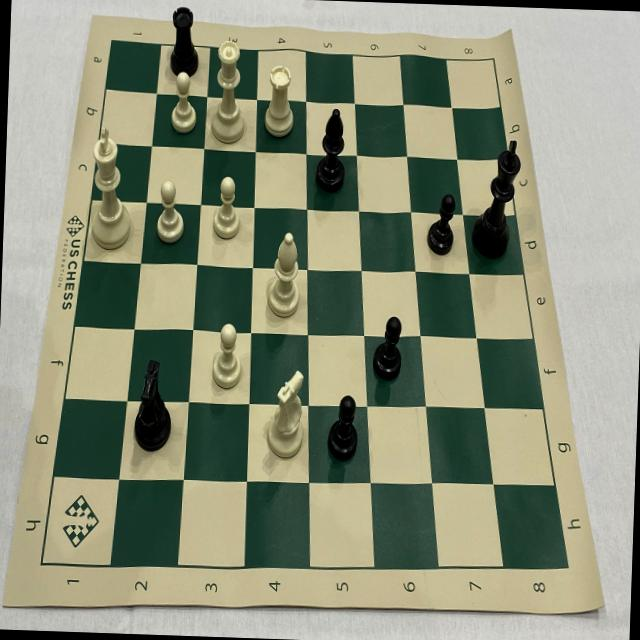black-bishop: (312, 102, 350, 198)
black-king: (469, 130, 529, 266)
black-knight: (128, 354, 176, 460)
black-pawn: (322, 388, 363, 465), (371, 306, 406, 386), (424, 190, 459, 260)
black-rook: (161, 1, 203, 81)
white-bishop: (263, 226, 304, 326)
white-king: (83, 122, 138, 255)
white-knight: (262, 360, 308, 466)
white-pawn: (206, 317, 246, 396), (151, 174, 190, 248), (210, 169, 247, 246), (167, 68, 200, 140)
white-queen: (205, 31, 252, 148)
white-rook: (260, 58, 300, 145)
